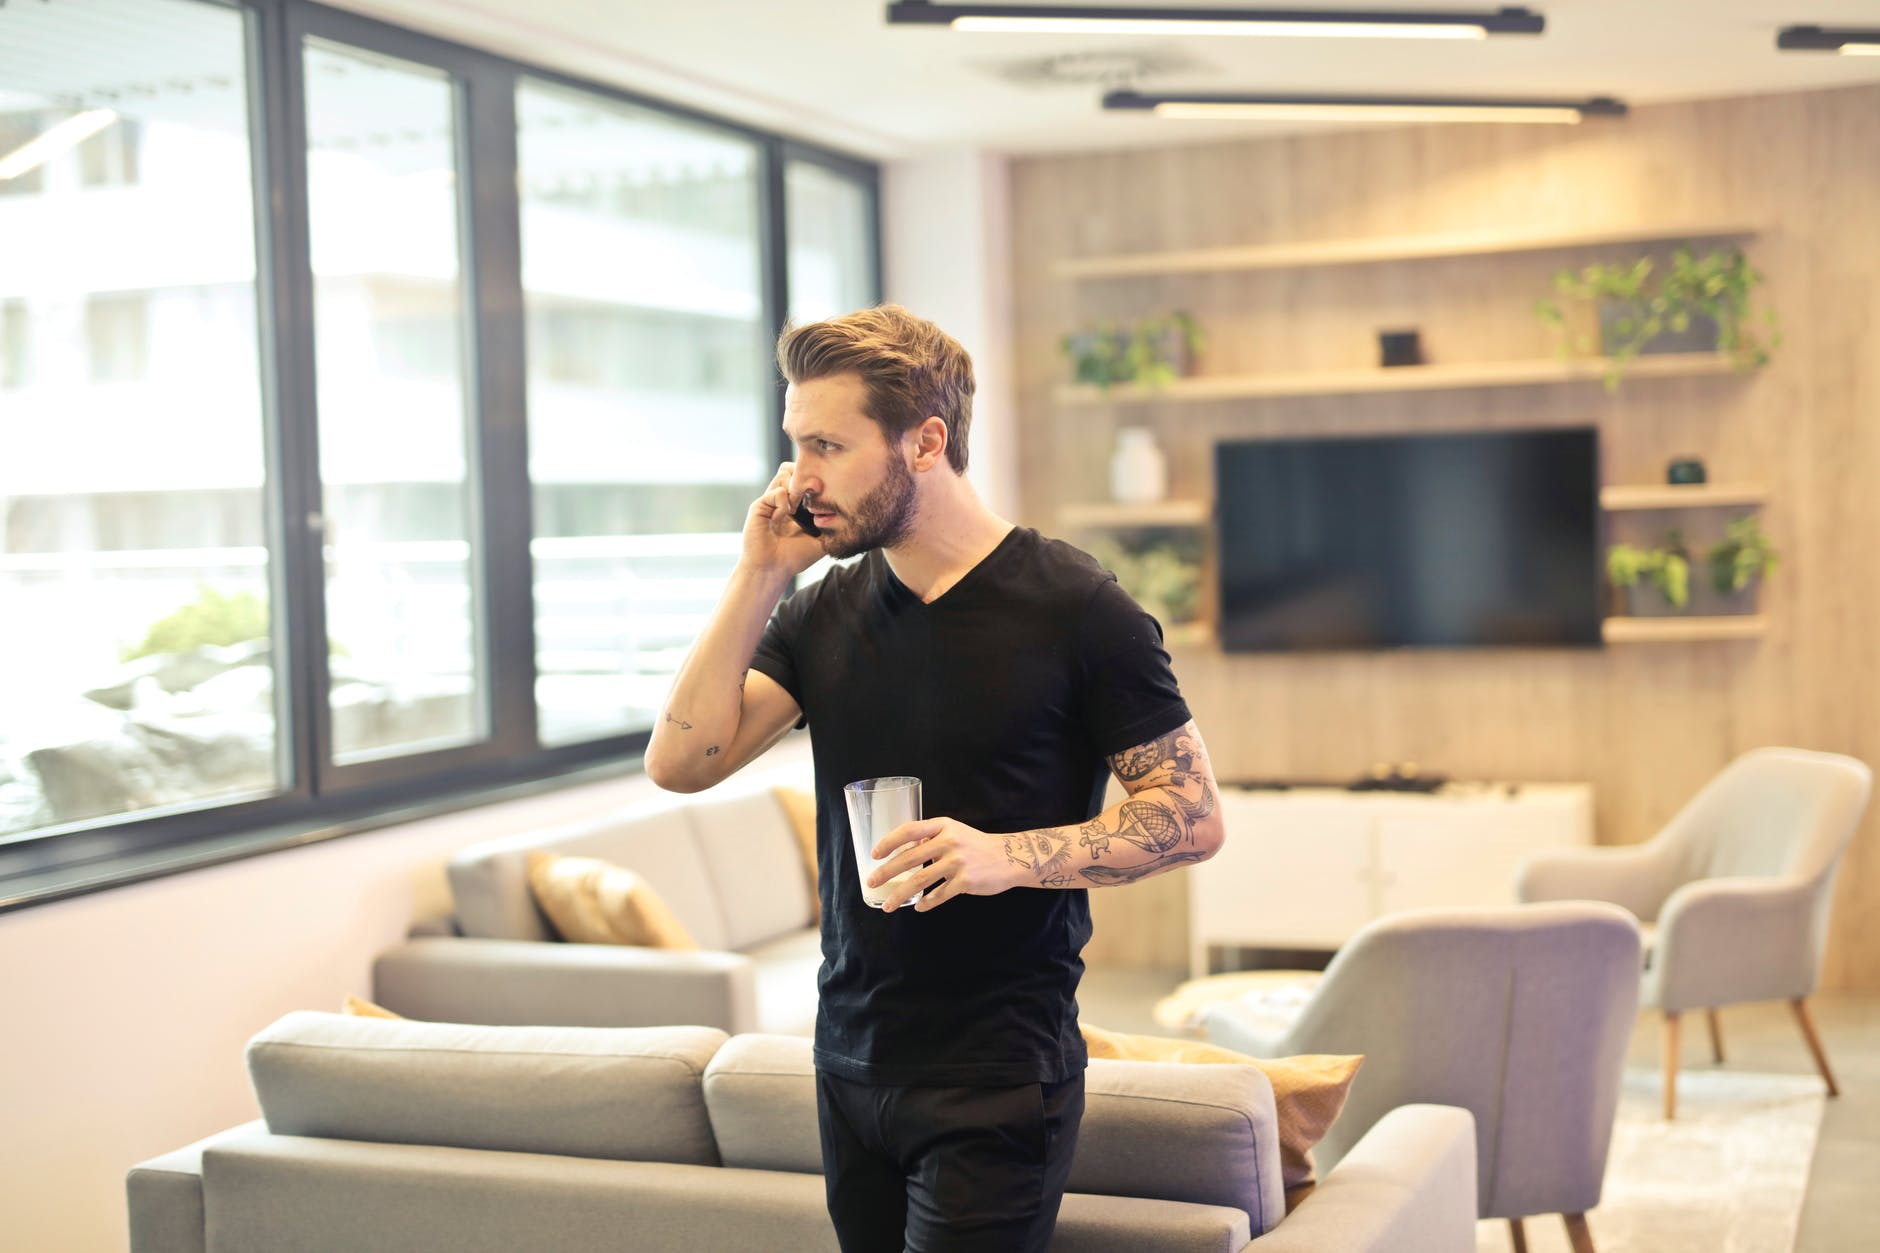phone: (751, 454, 825, 571)
talk: (735, 389, 874, 613)
